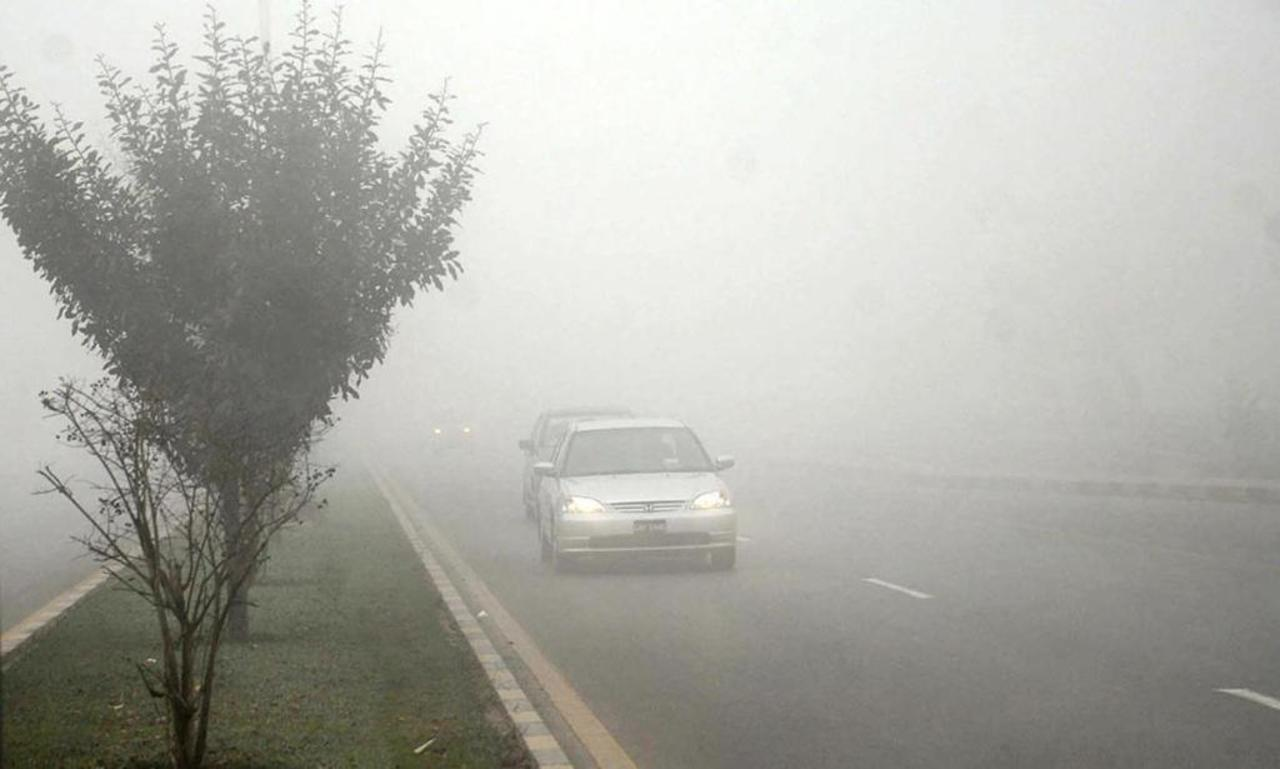car: (521, 414, 735, 571), (516, 411, 636, 522), (428, 410, 472, 444)
